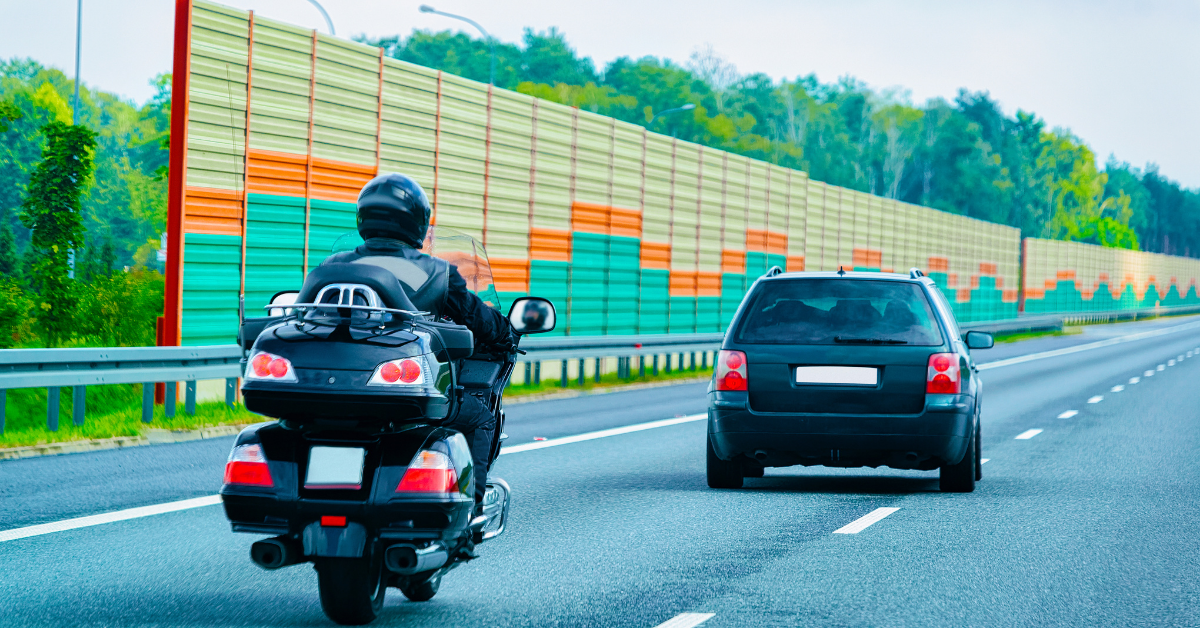Car: (687, 259, 991, 508)
Motorcycle: (213, 267, 551, 616)
